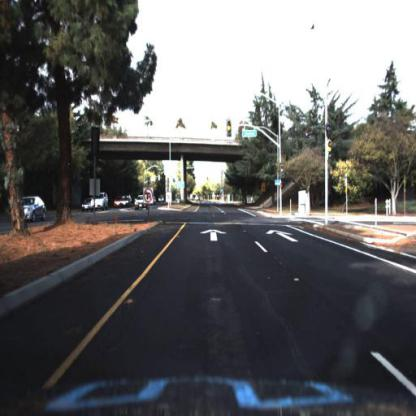car: (18, 196, 49, 225), (89, 191, 112, 211), (93, 193, 109, 215), (80, 195, 95, 211), (120, 194, 130, 214), (137, 195, 150, 209), (122, 195, 133, 207), (81, 199, 91, 212), (157, 194, 166, 207)
trafficLight-Yellow: (327, 140, 336, 157), (227, 120, 232, 140), (280, 162, 286, 178), (327, 142, 332, 158)
